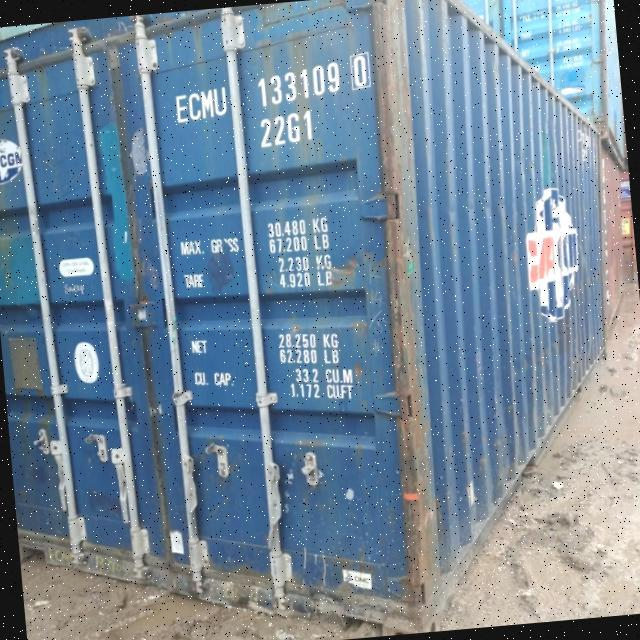le-tle-t-tletters: (166, 56, 378, 119)
